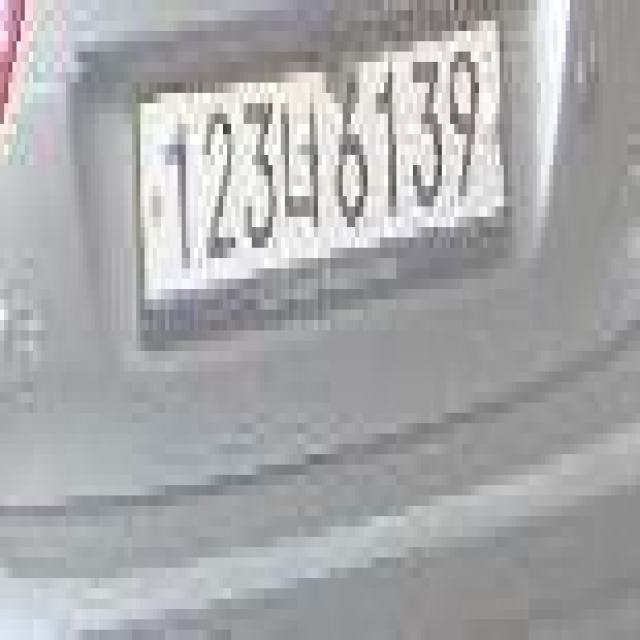illegal_plate: (122, 33, 518, 336)
